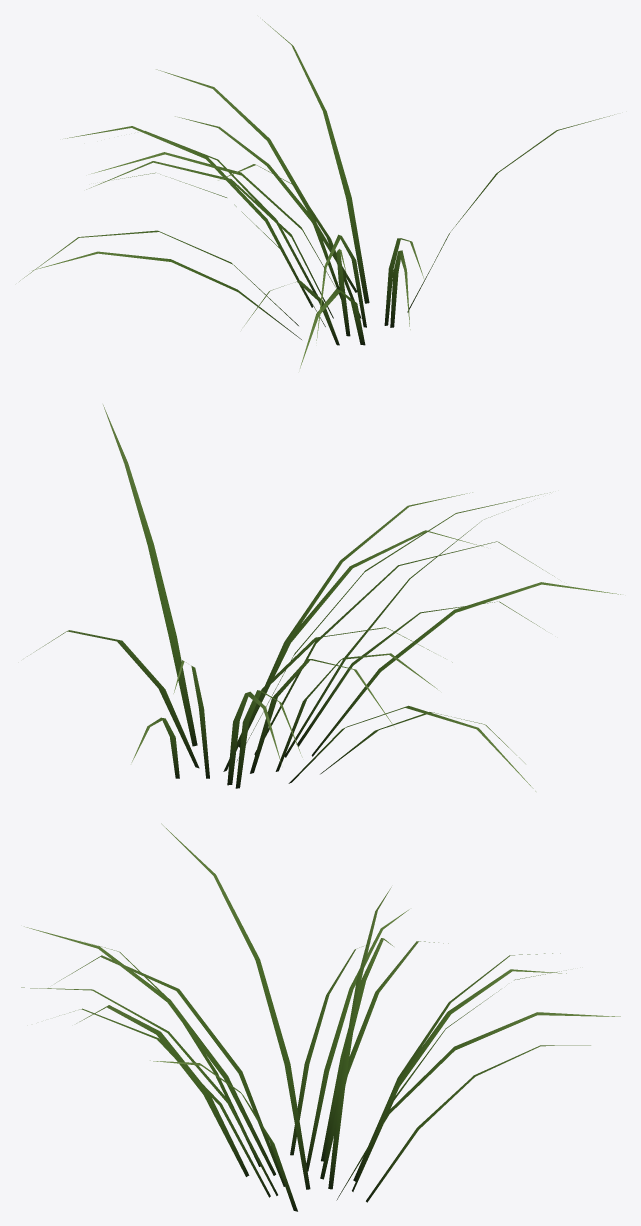
The model's file is b612_veg_VL_Grass_Meadow_B_0.glb.
3 renders of one model, top to bottom at view 1: azimuth 30°, elevation 25°; view 2: azimuth 150°, elevation 25°; view 3: azimuth 270°, elevation 25°, orthographic. The views are drawn at different scales.
Parts seen in each view (by area): view 1: Grass_Meadow_B_LOD0; view 2: Grass_Meadow_B_LOD0; view 3: Grass_Meadow_B_LOD0.
Part boxes in pixels (bbox=[...]): Grass_Meadow_B_LOD0: bbox=[19, 19, 614, 368]; Grass_Meadow_B_LOD0: bbox=[27, 405, 620, 791]; Grass_Meadow_B_LOD0: bbox=[21, 823, 620, 1211].
Bounding box in the file's own units: 0.6288 × 0.2896 × 0.629.
